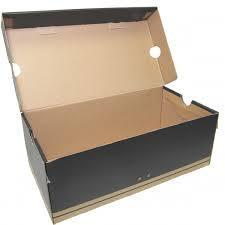box: (0, 6, 219, 224)
